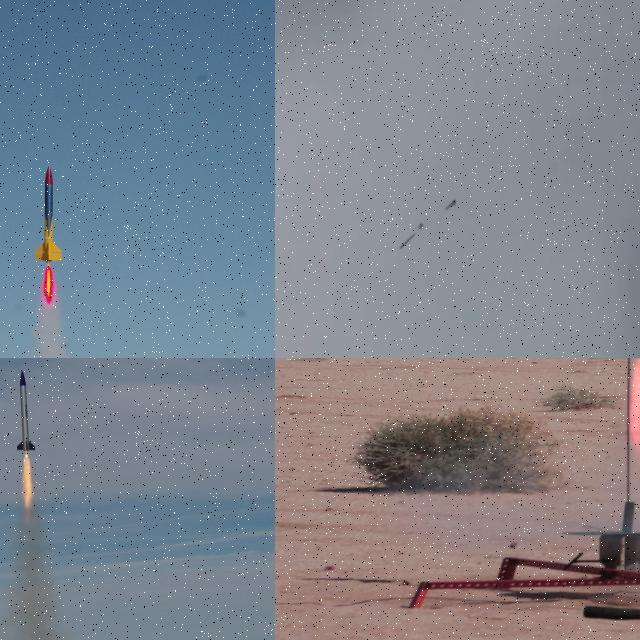Rocket: (35, 165, 62, 263), (16, 368, 38, 452), (446, 199, 456, 210)
